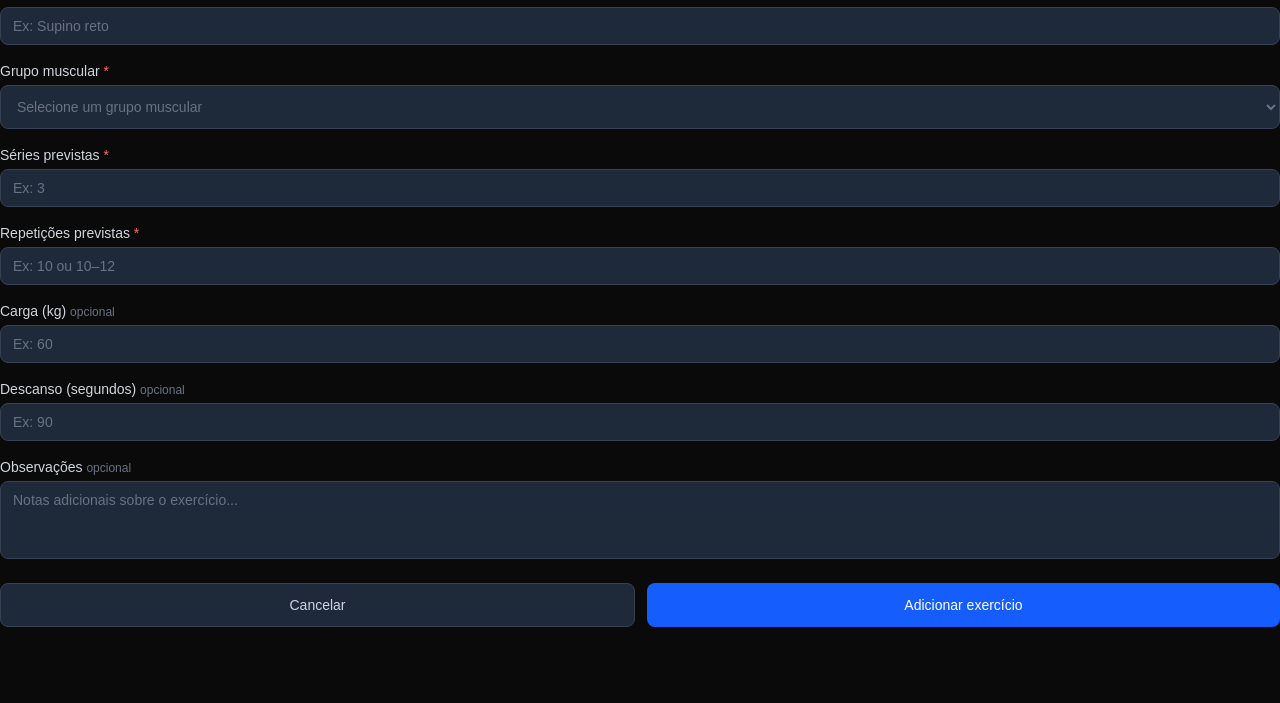
Test: ExerciseForm › shows multiple inline errors simultaneously without closing the form
The width and height of the screenshot is (1280, 703).
Click the button "Adicionar exercício".
click(964, 605)  # box [647,583,1279,627]
(page scrolled)
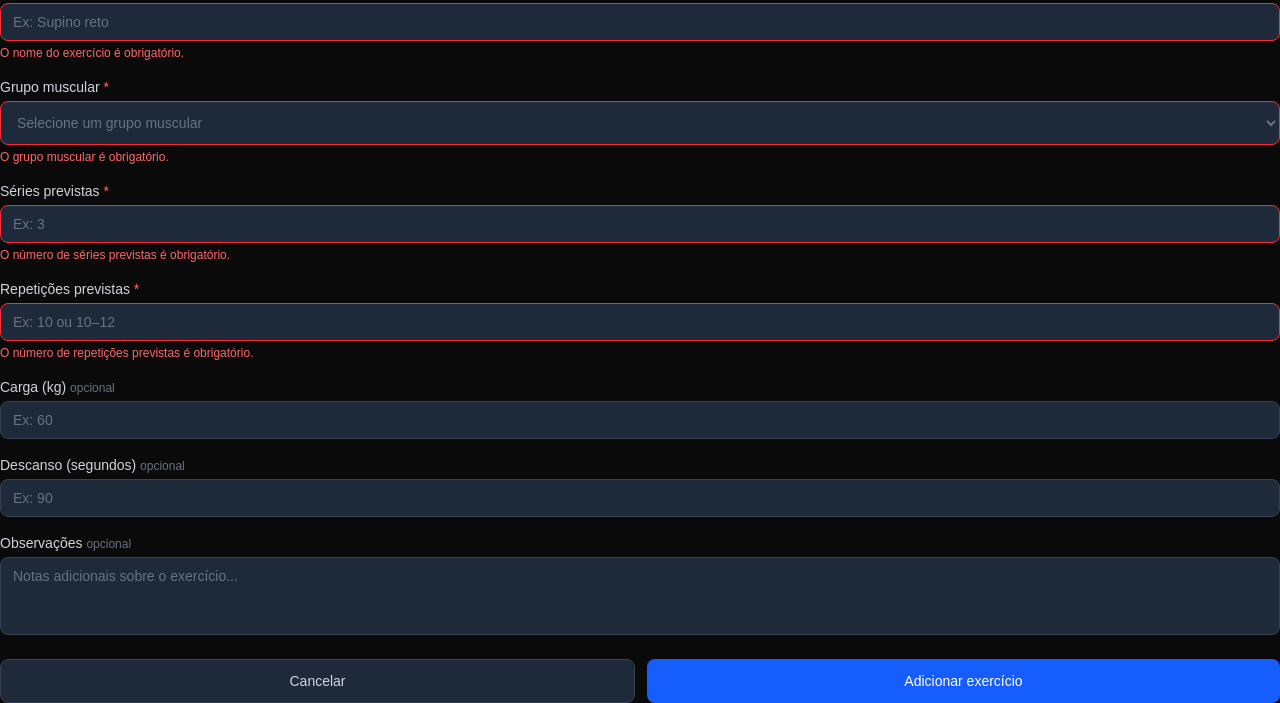
Check: the text "O nome do exercício é obrigatório." is shown, box [0,46,184,60]
Check: the text "O grupo muscular é obrigatório." is shown, box [0,150,169,164]
Check: the text "O número de séries previstas é obrigatório." is shown, box [0,248,230,262]
